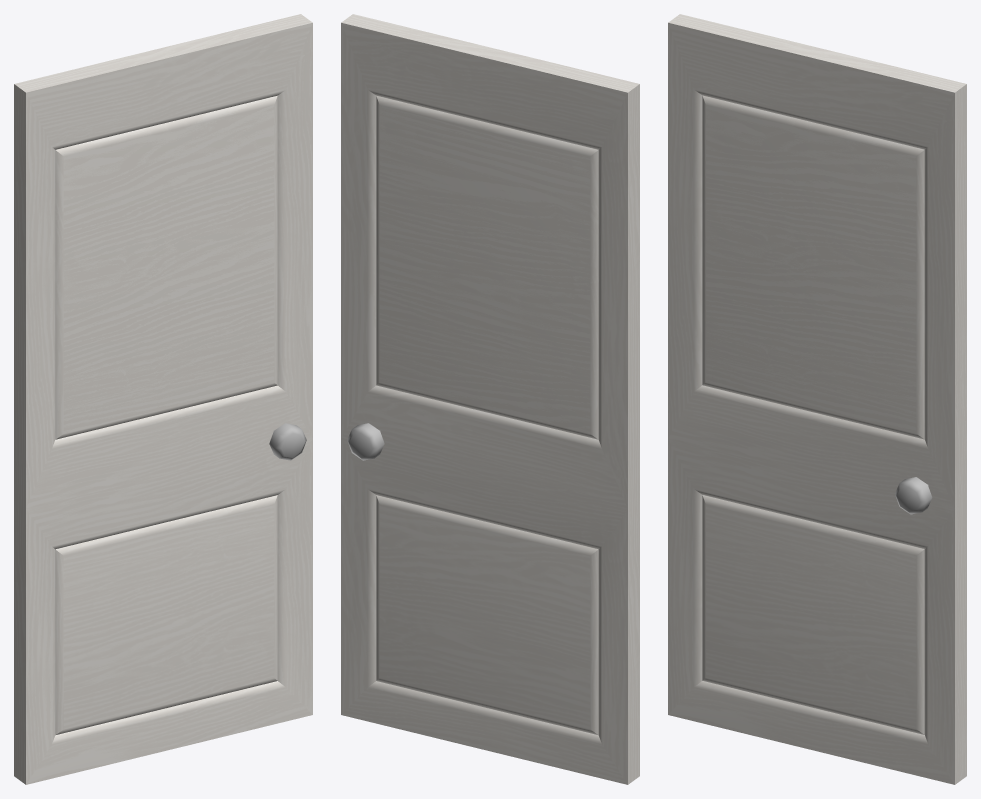
The model's file is door_025.fbx.
The picture shows the model from 3 angles, left to right: view 1: azimuth 30°, elevation 25°; view 2: azimuth 150°, elevation 25°; view 3: azimuth 330°, elevation 25°; orthographic projection.
Parts seen in each view (by area): view 1: door_025; view 2: door_025; view 3: door_025.
Part boxes in pixels (x1,y1,x2,y2): door_025: [14, 14, 312, 784]; door_025: [341, 14, 639, 784]; door_025: [668, 14, 966, 784].
Bounding box in the file's own units: 95.15 × 23.13 × 219.
